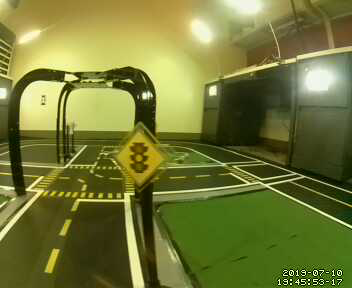Traffic light sign: (117, 131, 163, 187)
